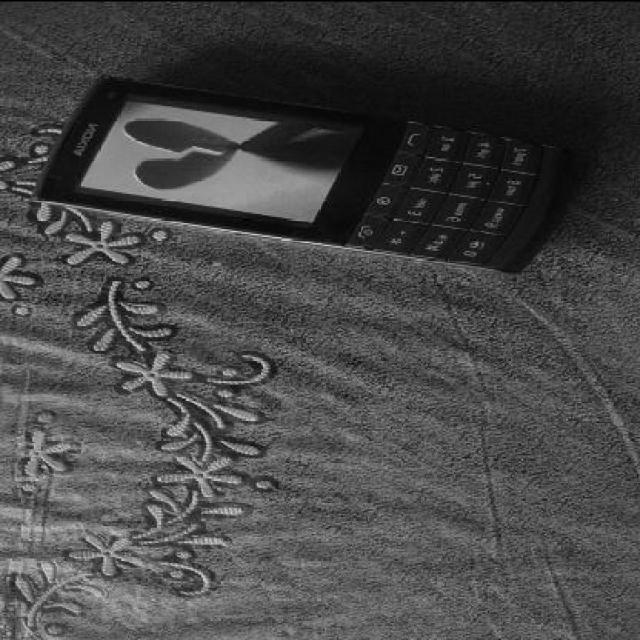fake: (0, 77, 588, 268)
